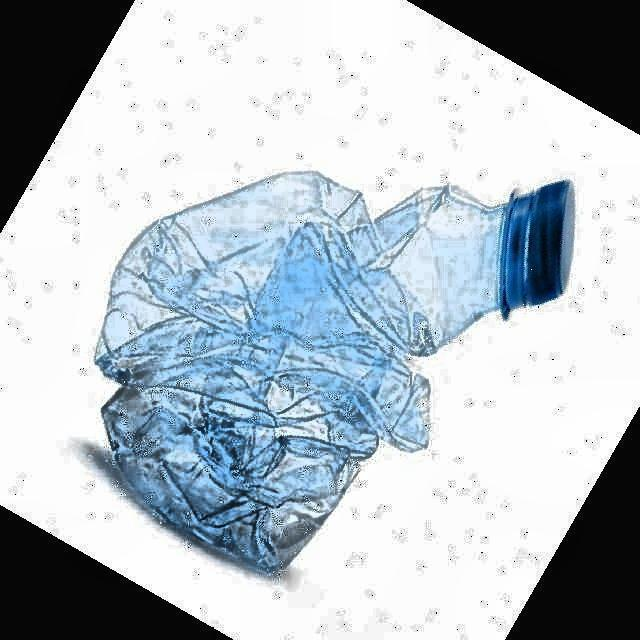plastic: (96, 172, 571, 571)
